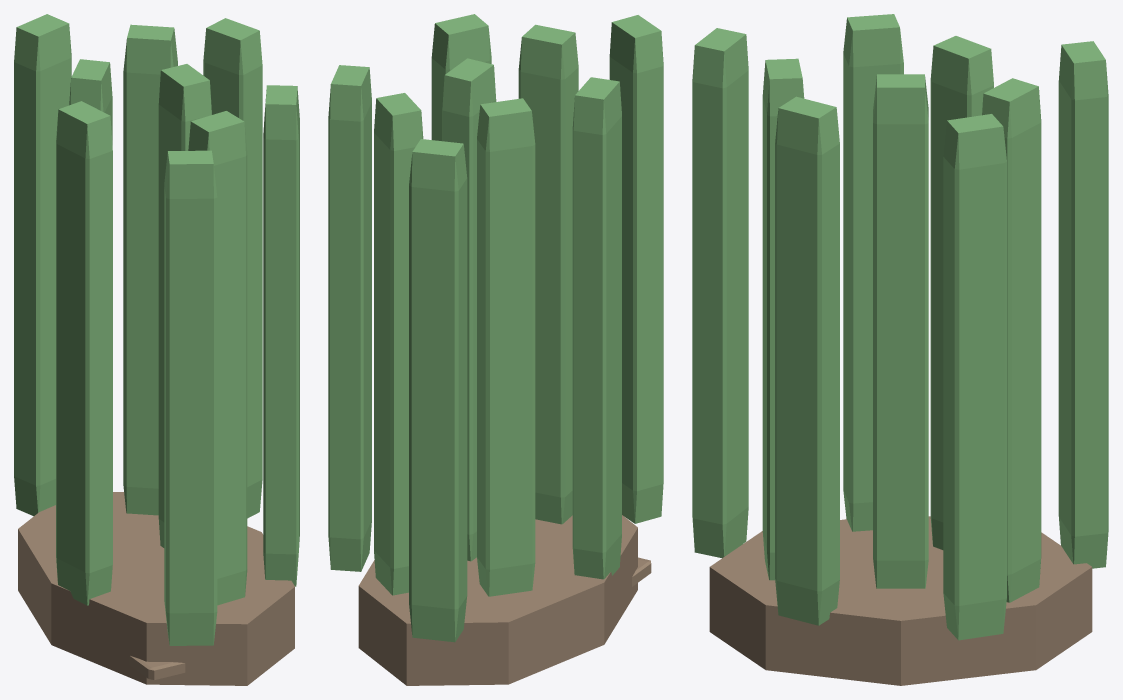
The model's file is b08_maiden_grass.glb.
3 renders of one model, left to right at view 1: azimuth 30°, elevation 25°; view 2: azimuth 150°, elevation 25°; view 3: azimuth 270°, elevation 25°, orthographic. The views are drawn at different scales.
Parts seen in each view (by area): view 1: b08_maiden_grass; view 2: b08_maiden_grass; view 3: b08_maiden_grass.
Part boxes in pixels (x1,y1,x2,y2): b08_maiden_grass: [14, 14, 299, 685]; b08_maiden_grass: [328, 14, 663, 685]; b08_maiden_grass: [692, 14, 1108, 685].
Size of the model in its own units: 0.995 by 2.15 by 1.43.
